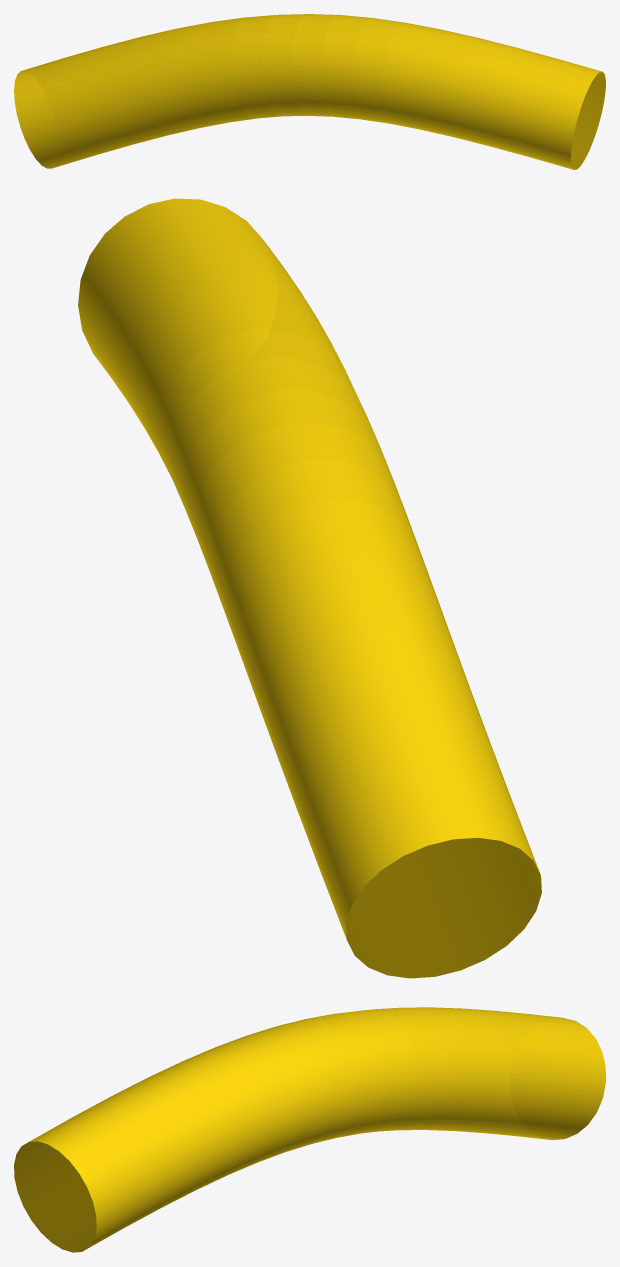
File: Event_421364160_track_51.fbx
The picture shows the model from 3 angles, top to bottom: view 1: azimuth 30°, elevation 25°; view 2: azimuth 150°, elevation 25°; view 3: azimuth 270°, elevation 25°; orthographic projection. The views are drawn at different scales.
Parts seen in each view (by area): view 1: Model; view 2: Model; view 3: Model.
Boxes of the visible parts, x1,y1,x2,y2 form: Model: (14,14,605,169); Model: (78,198,541,978); Model: (14,1007,605,1252).
Bounding box in the file's own units: 0.1839 × 0.0769 × 0.1927.
